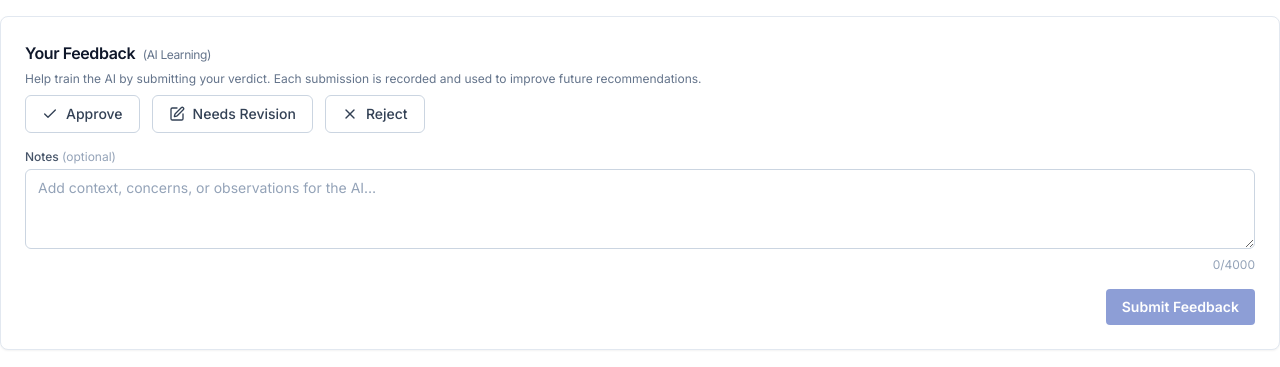
Test: FeedbackWidget › submit button is enabled after selecting verdict
What coordinates should you click on to do the following:
click the button "Approve"
I would click on:
 (82, 114)
Its box is [25,95,140,133].
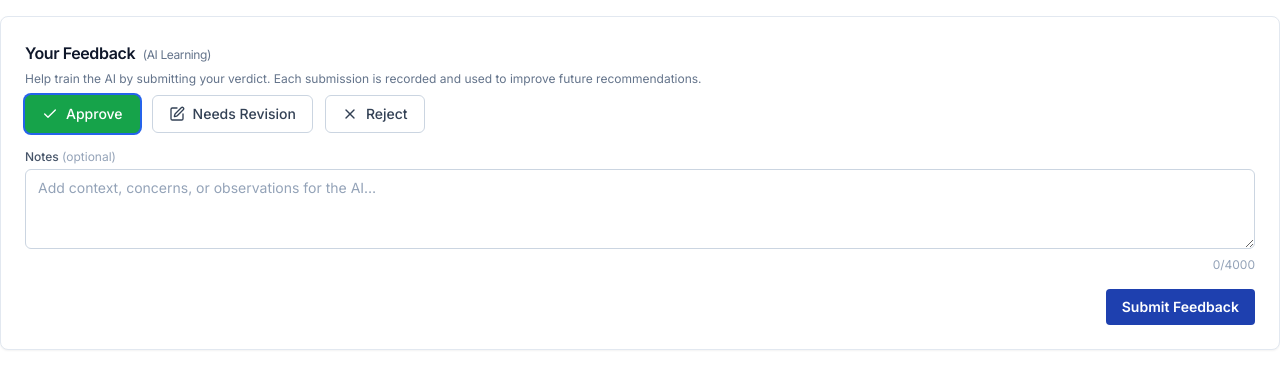
Now the button "Submit Feedback" is enabled, box [1106,289,1255,325]
